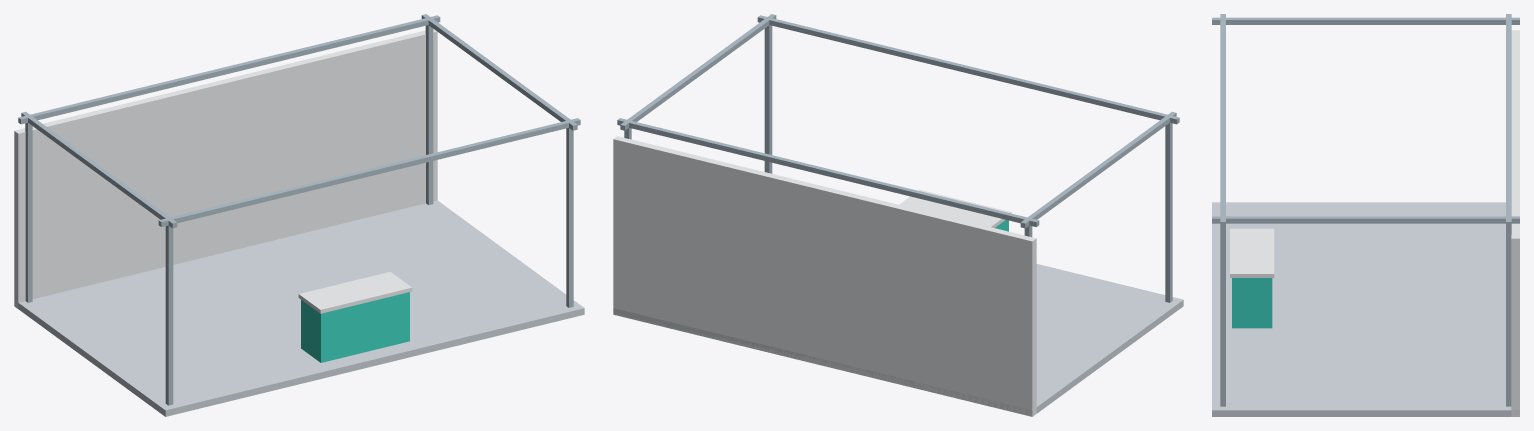
3 renders of one model, left to right at view 1: azimuth 30°, elevation 25°; view 2: azimuth 150°, elevation 25°; view 3: azimuth 270°, elevation 25°, orthographic.
Parts seen in each view (by area): view 1: Exhibition Booth Concept; view 2: Exhibition Booth Concept; view 3: Exhibition Booth Concept.
Boxes of the visible parts, x1,y1,x2,y2 form: Exhibition Booth Concept: (14,14,584,416); Exhibition Booth Concept: (613,14,1183,416); Exhibition Booth Concept: (1212,14,1519,416).
Size of the model in its own units: 8 by 3.49 by 5.
